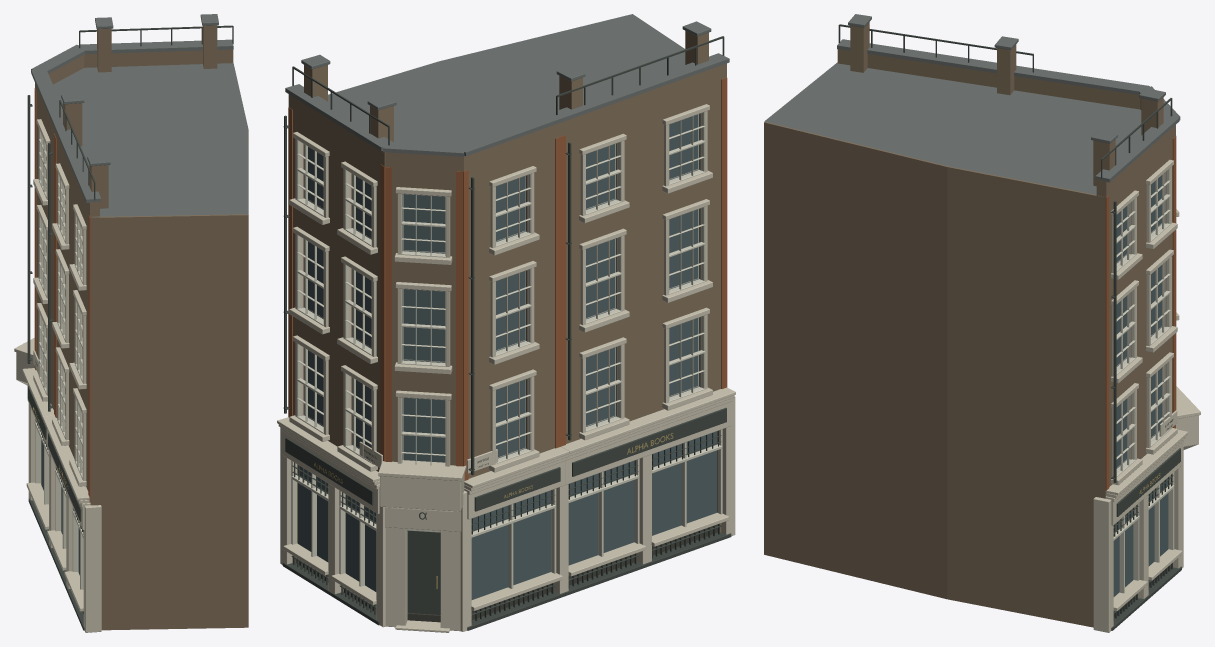
Rendered from por-exterior-d02ecabd78c1.glb.
3 views of the same model, side by side, from view 1: azimuth 30°, elevation 25°; view 2: azimuth 150°, elevation 25°; view 3: azimuth 270°, elevation 25° (orthographic). The views are drawn at different scales.
Parts seen in each view (by area): view 1: POR.001; view 2: POR.001; view 3: POR.001.
Part boxes in pixels (bbox=[...]): POR.001: bbox=[14, 14, 248, 632]; POR.001: bbox=[277, 14, 735, 632]; POR.001: bbox=[764, 14, 1200, 632].
Bounding box in the file's own units: 10.36 × 15.95 × 13.1.
